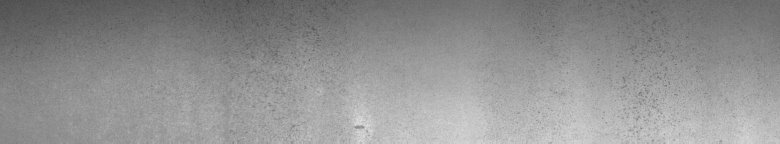ib: (247, 4, 368, 133)
